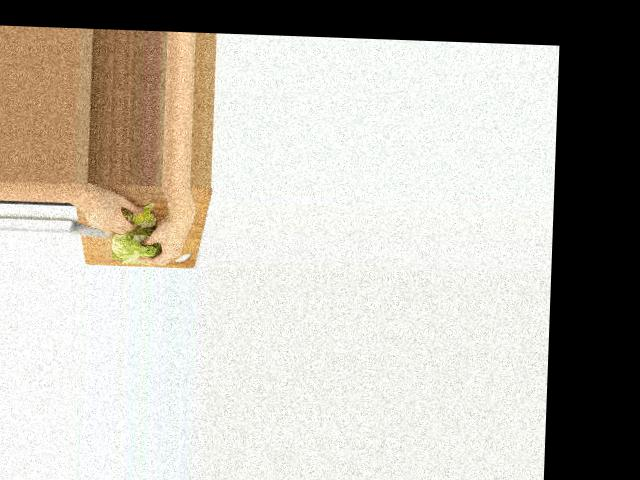lettuce: (110, 229, 159, 263)
